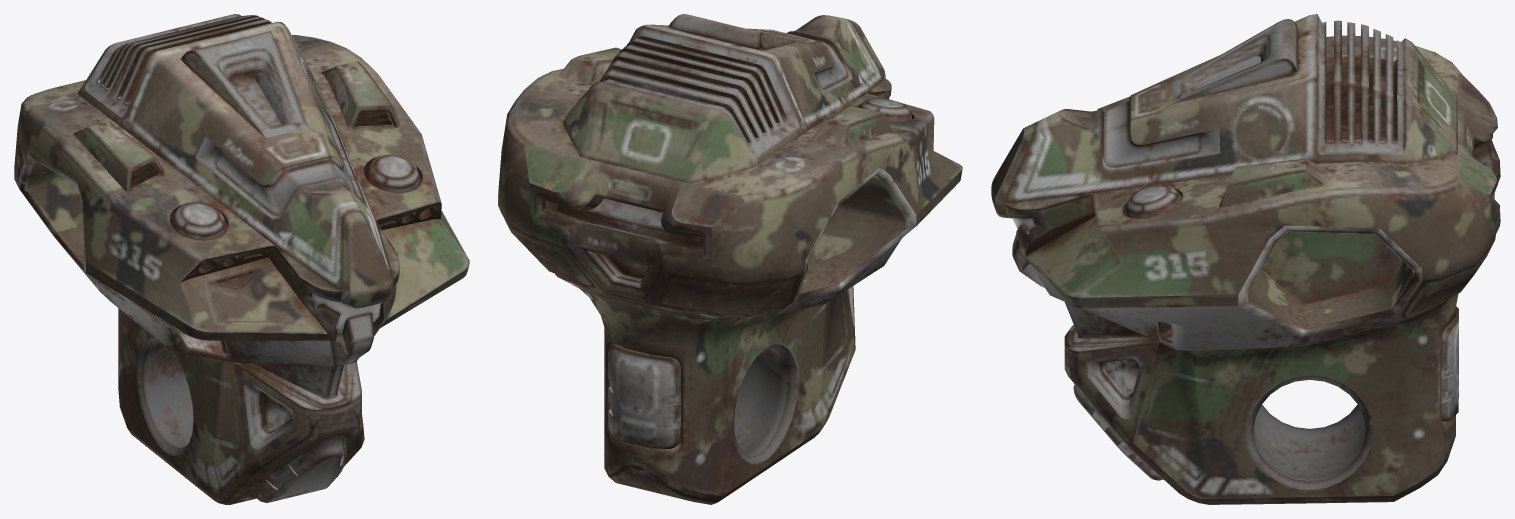
Rendered from aaa.FBX.
3 renders of one model, left to right at view 1: azimuth 30°, elevation 25°; view 2: azimuth 150°, elevation 25°; view 3: azimuth 270°, elevation 25°, orthographic. The views are drawn at different scales.
Visible parts, largest first — view 1: Body_01_low; view 2: Body_01_low; view 3: Body_01_low.
Boxes of the visible parts, <box> form: Body_01_low: <box>14,14,469,504</box>; Body_01_low: <box>498,14,962,504</box>; Body_01_low: <box>991,14,1500,504</box>.
Bounding box in the file's own units: 35.58 × 42.46 × 44.4.
1 material, 1 textured.
